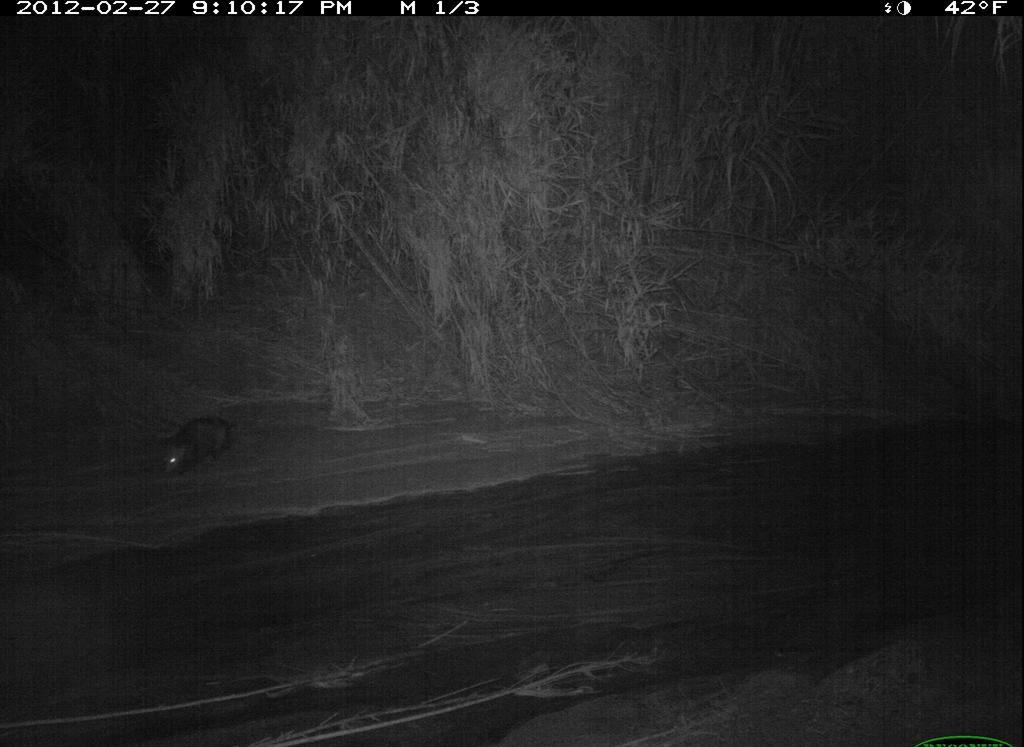opossum: (149, 409, 255, 489)
